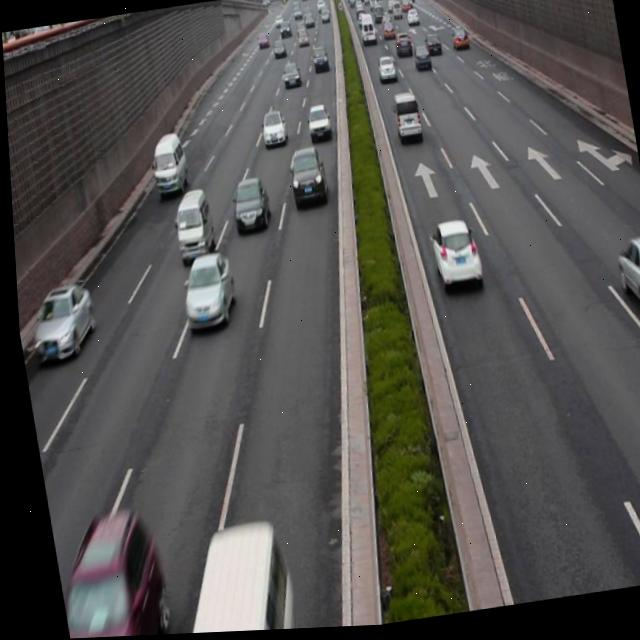car: (44, 512, 161, 639), (22, 280, 93, 362), (174, 253, 236, 335), (423, 222, 479, 295), (606, 235, 640, 326), (283, 143, 324, 211), (225, 178, 267, 238), (257, 110, 285, 150), (302, 107, 329, 146)
truck: (161, 523, 288, 635), (167, 186, 213, 261), (147, 135, 186, 196), (388, 93, 421, 150)
